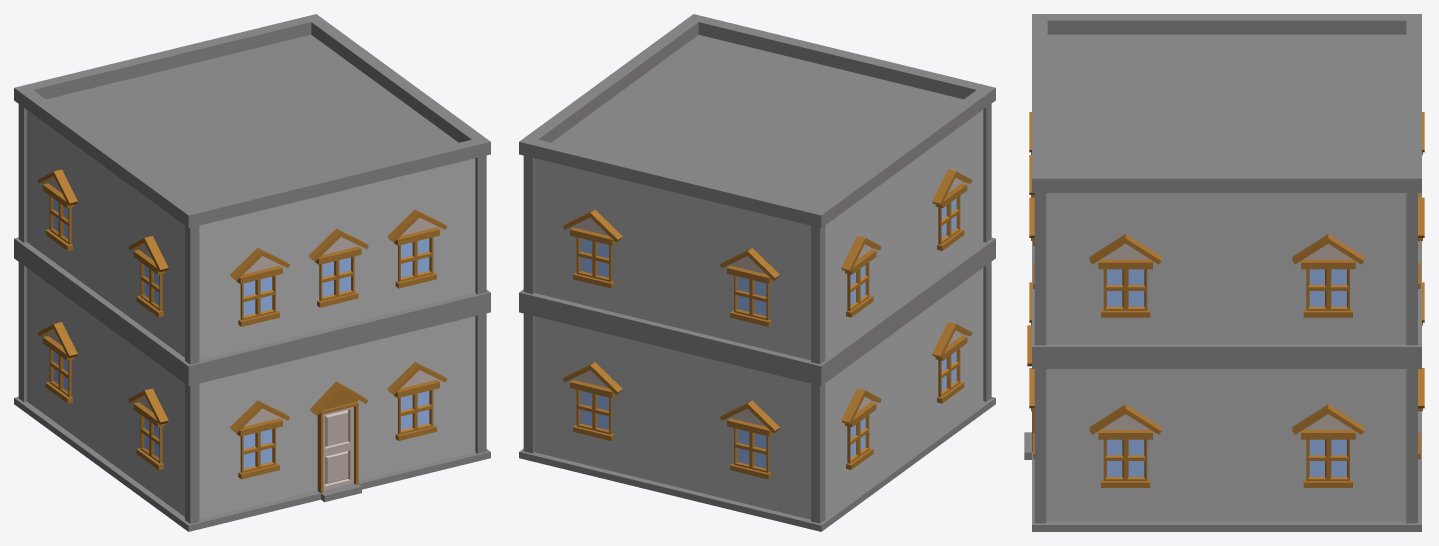
File: Apt_2_story.fbx
3 renders of one model, left to right at view 1: azimuth 30°, elevation 25°; view 2: azimuth 150°, elevation 25°; view 3: azimuth 270°, elevation 25°, orthographic. The views are drawn at different scales.
Parts seen in each view (by area): view 1: apt_two_story_mesh; view 2: apt_two_story_mesh; view 3: apt_two_story_mesh.
Boxes of the visible parts, <box> form: apt_two_story_mesh: <box>14,14,490,531</box>; apt_two_story_mesh: <box>519,14,995,531</box>; apt_two_story_mesh: <box>1024,14,1424,531</box>.
Size of the model in its own units: 5.07 by 5 by 5.14.
